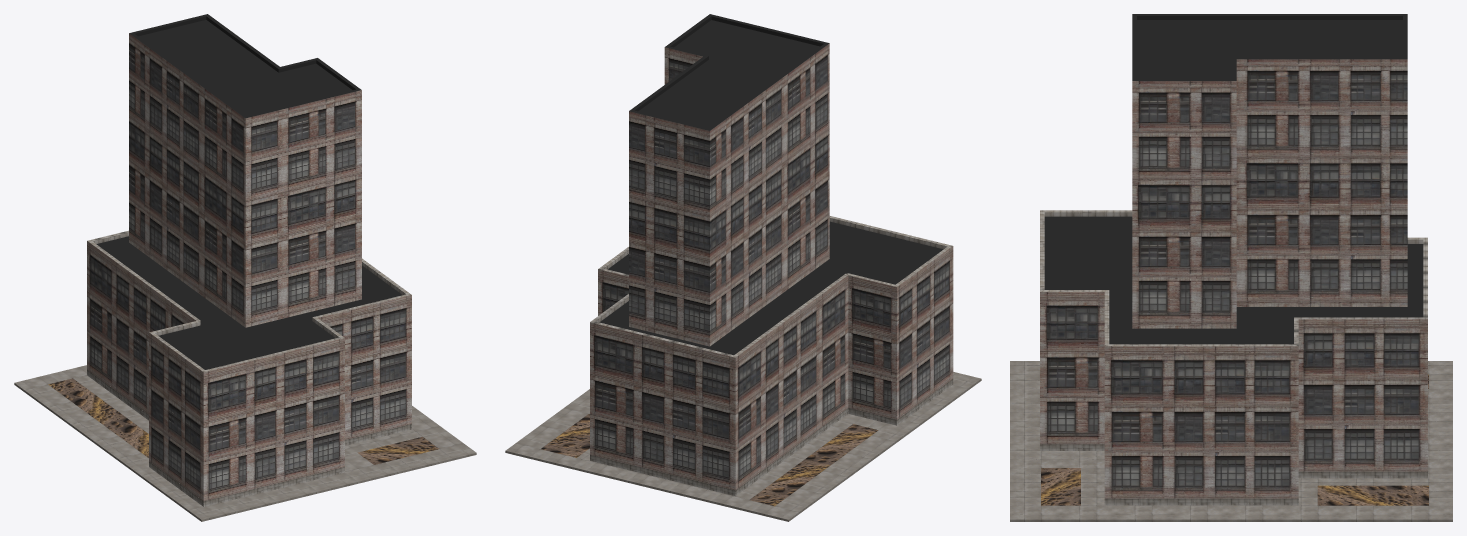
Rendered from abandoned_brick_building.glb.
3 renders of one model, left to right at view 1: azimuth 30°, elevation 25°; view 2: azimuth 150°, elevation 25°; view 3: azimuth 270°, elevation 25°, orthographic. The views are drawn at different scales.
Visible parts, largest first — view 1: Material2 (×5); view 2: Material2 (×5); view 3: Material2 (×5).
Part boxes in pixels (left/top/right/bottom): Material2 (×5): left=14, top=14, right=476, bottom=521; Material2 (×5): left=505, top=14, right=981, bottom=521; Material2 (×5): left=1010, top=14, right=1452, bottom=521.
Bounding box in the file's own units: 710 × 844 × 837.
Materials: 5 (4 with a texture image).
